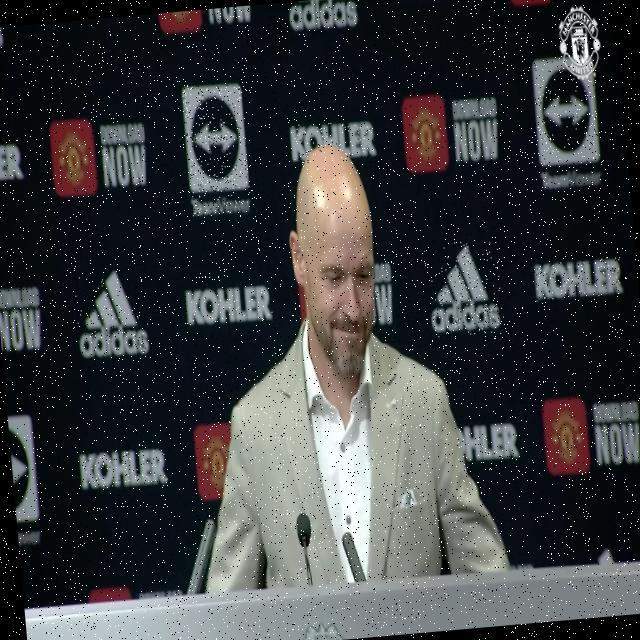Adidas: (423, 239, 505, 340), (72, 264, 152, 362)
Kohler: (533, 256, 624, 302), (185, 282, 273, 327), (290, 118, 376, 164), (79, 446, 168, 490)
TeamViewer: (531, 54, 602, 190), (181, 81, 251, 217)
